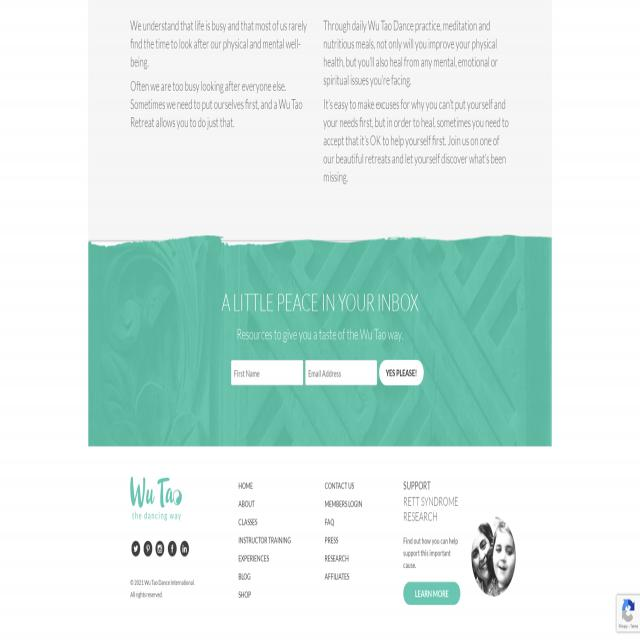button: (471, 516, 516, 596), (130, 476, 182, 520), (404, 582, 461, 605), (379, 360, 424, 385), (167, 541, 177, 556), (180, 541, 189, 556), (132, 541, 140, 556), (144, 541, 152, 556), (156, 541, 164, 556)
field: (231, 360, 303, 385), (305, 360, 377, 385)
